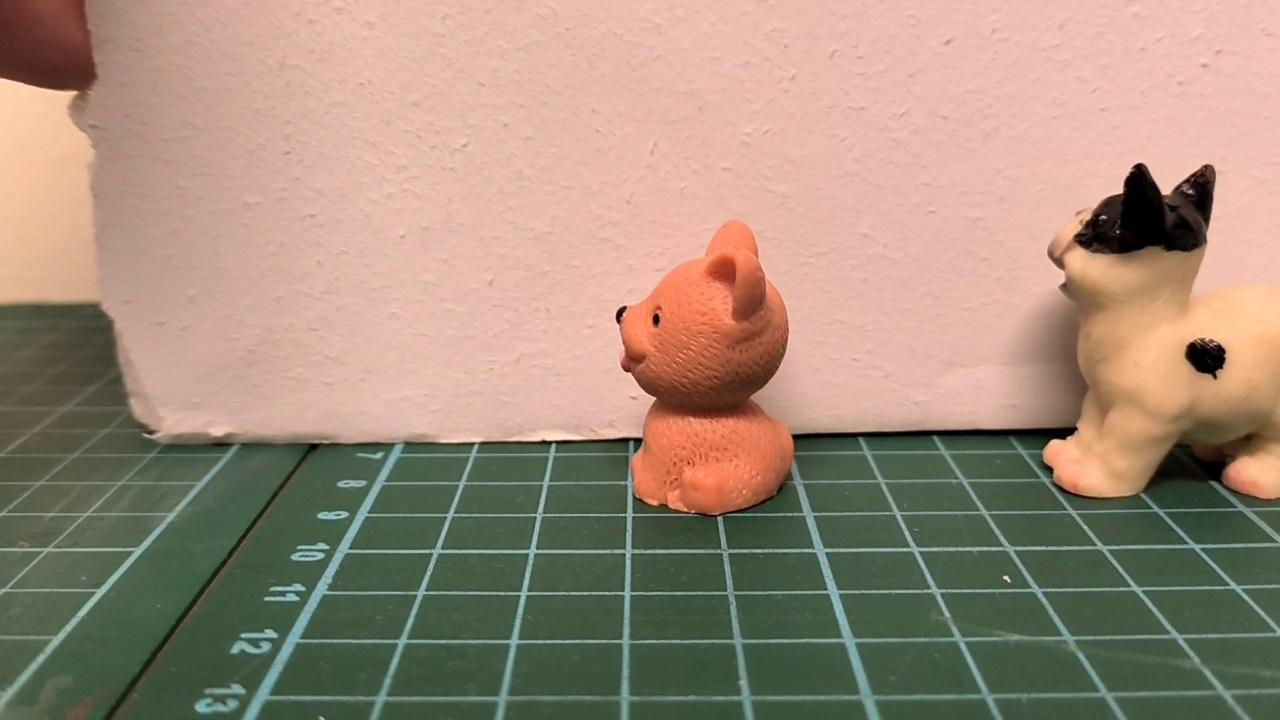pet: (1037, 153, 1280, 502), (613, 219, 794, 516)
